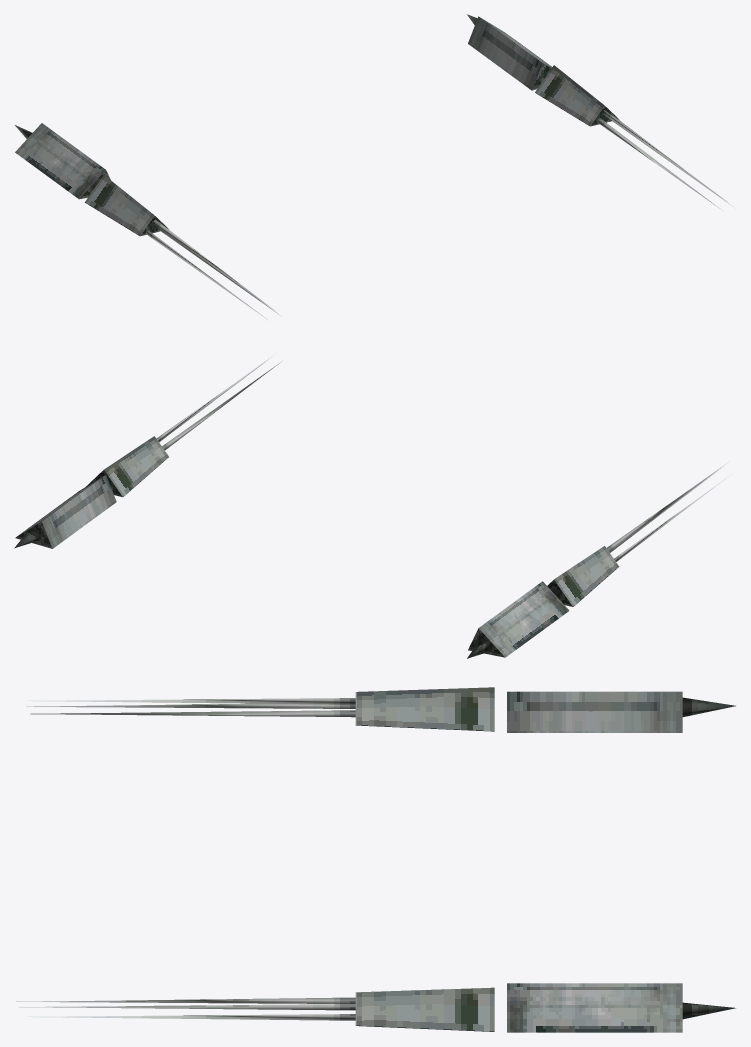
File: awing_weapon_s04_l3.fbx
3 renders of one model, top to bottom at view 1: azimuth 30°, elevation 25°; view 2: azimuth 150°, elevation 25°; view 3: azimuth 270°, elevation 25°, orthographic. The views are drawn at different scales.
Visible parts, largest first — view 1: mesh_node; view 2: mesh_node; view 3: mesh_node.
Boxes of the visible parts, box(x1,y1,x2,y2) form: mesh_node: box(15, 14, 732, 319); mesh_node: box(14, 354, 732, 658); mesh_node: box(16, 687, 735, 1032).
Size of the model in its own units: 9.7 by 0.4698 by 9.05.
Materials: 1 (1 with a texture image).
